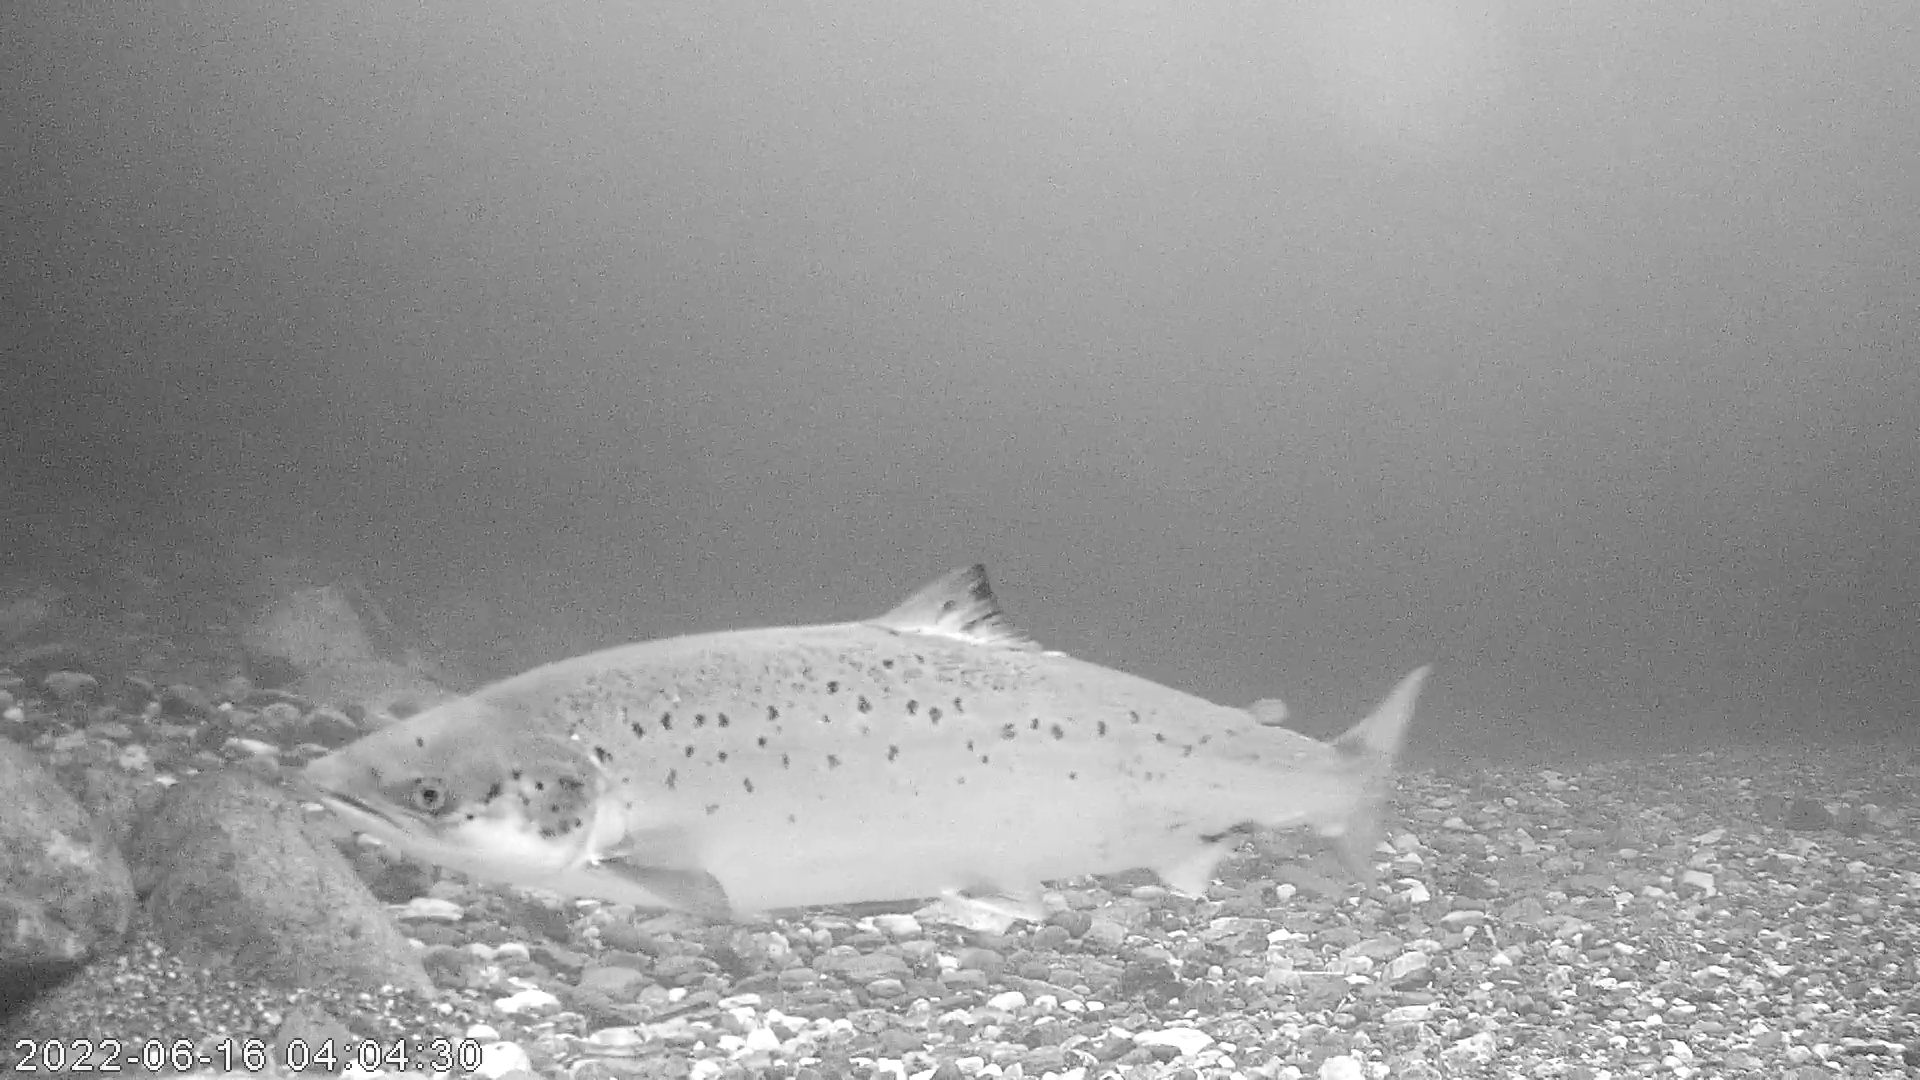salmon: (302, 558, 1436, 924)
